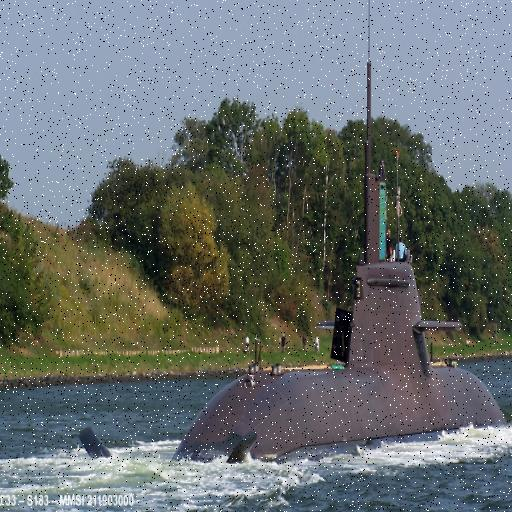submarine: (82, 57, 512, 462)
